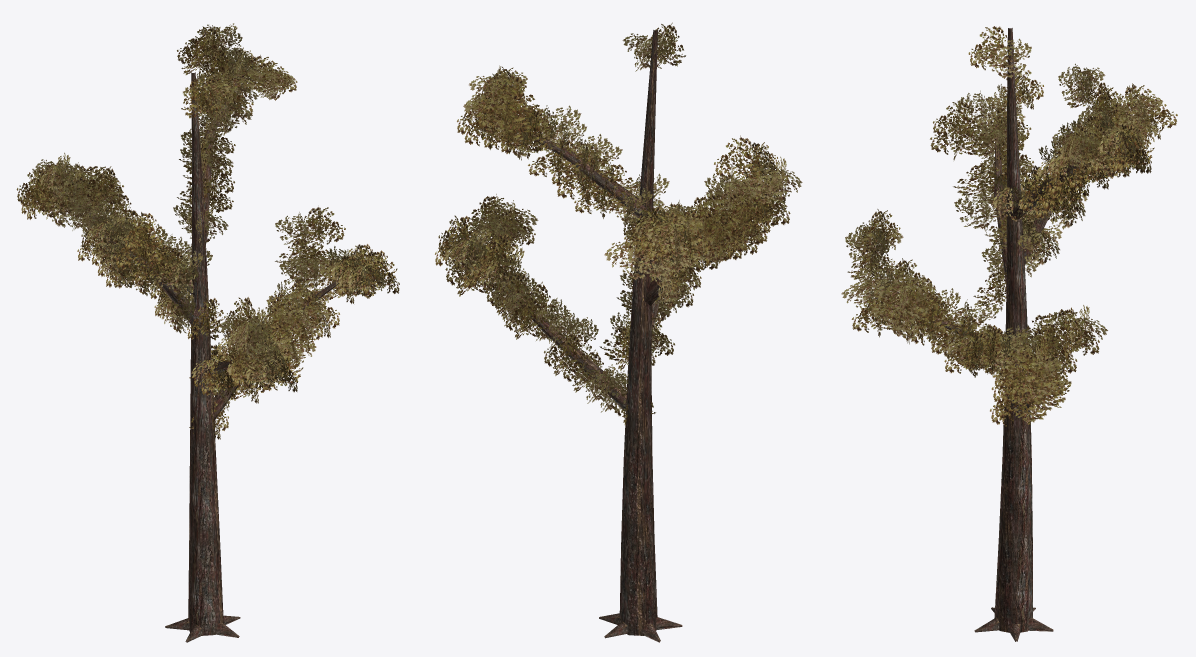
Rendered from tree_3d_06_golden_beige_lod1.glb.
3 views of the same model, side by side, from view 1: azimuth 30°, elevation 25°; view 2: azimuth 150°, elevation 25°; view 3: azimuth 270°, elevation 25° (orthographic). The views are drawn at different scales.
Visible parts, largest first — view 1: foliage_cards, wood_geometry; view 2: foliage_cards, wood_geometry; view 3: foliage_cards, wood_geometry.
Boxes of the visible parts, x1,y1,x2,y2 form: foliage_cards: (16, 23, 399, 439); wood_geometry: (73, 70, 338, 642); foliage_cards: (435, 22, 802, 424); wood_geometry: (474, 30, 769, 642); foliage_cards: (841, 26, 1177, 427); wood_geometry: (875, 28, 1109, 641).
Size of the model in its own units: 5.11 by 8.05 by 4.24.
Materials: 2 (2 with a texture image).
